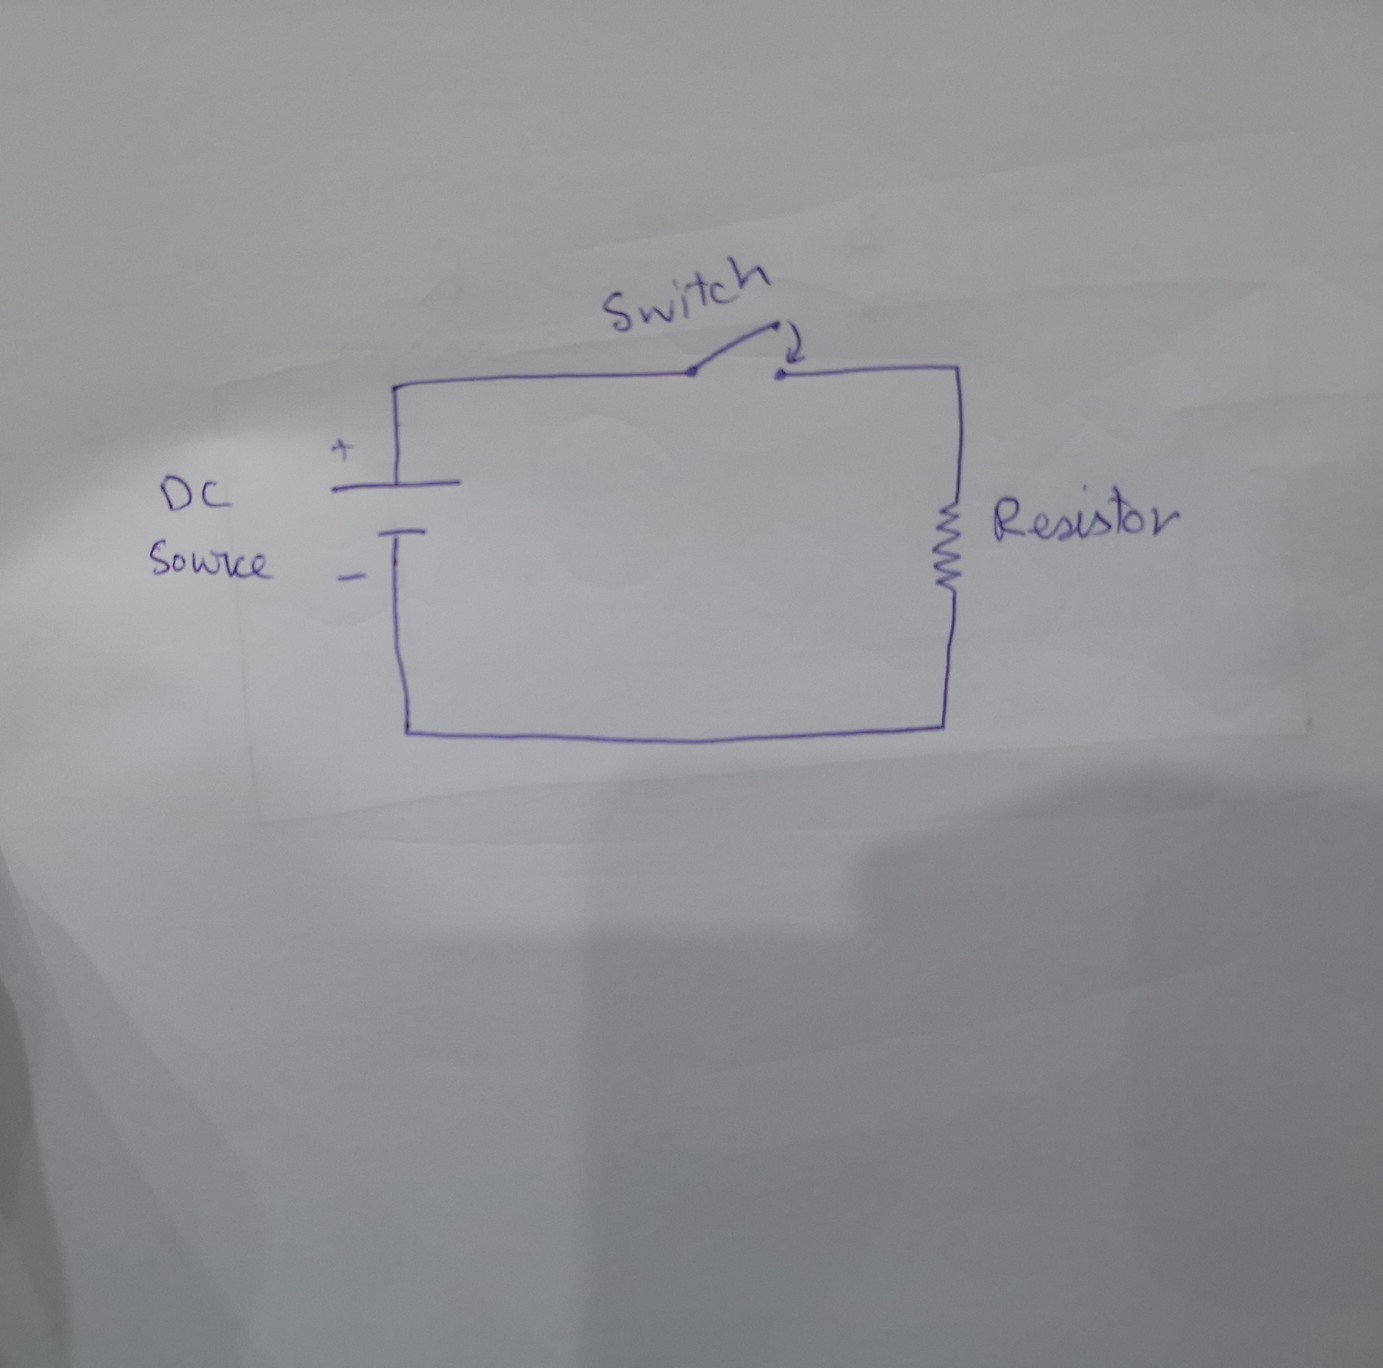junction: (931, 350, 972, 388), (926, 708, 958, 742), (396, 717, 426, 747), (383, 377, 407, 398)
resistor: (930, 494, 968, 599)
switch: (676, 309, 805, 388)
text: (596, 251, 780, 334), (985, 485, 1179, 544), (144, 539, 276, 581), (154, 474, 228, 511)
voltage.dc: (319, 466, 458, 537)
